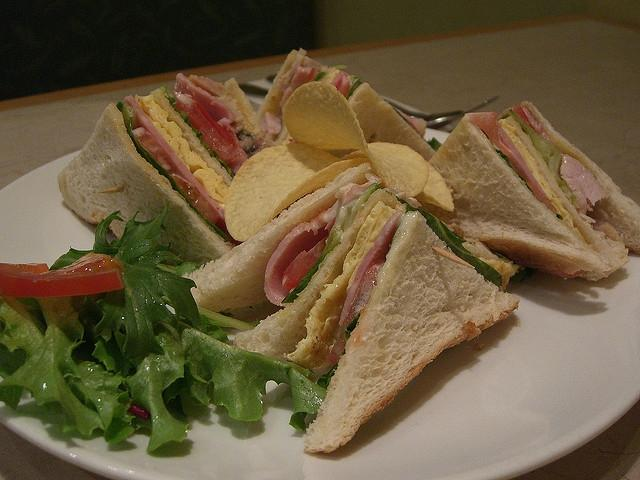lettuce: (282, 182, 502, 304), (114, 101, 228, 241), (94, 240, 208, 360), (121, 320, 212, 452), (48, 204, 172, 271), (498, 110, 577, 204), (160, 84, 234, 178), (62, 361, 140, 444), (0, 296, 47, 364), (309, 65, 346, 82), (206, 324, 230, 342), (346, 75, 362, 100), (494, 148, 512, 168), (427, 137, 442, 151), (236, 129, 254, 140)
tomato: (132, 126, 222, 226), (0, 252, 126, 298), (174, 101, 240, 164), (281, 236, 329, 290), (498, 104, 536, 130), (331, 71, 350, 98), (127, 404, 151, 420), (306, 68, 322, 83)
